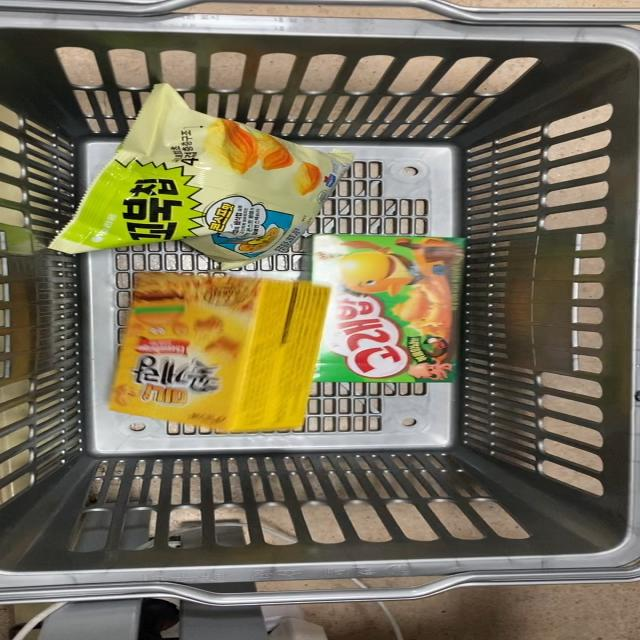ggobukchip: (31, 76, 334, 257)
goraebob: (309, 222, 485, 382)
minicrab: (110, 266, 312, 428)
